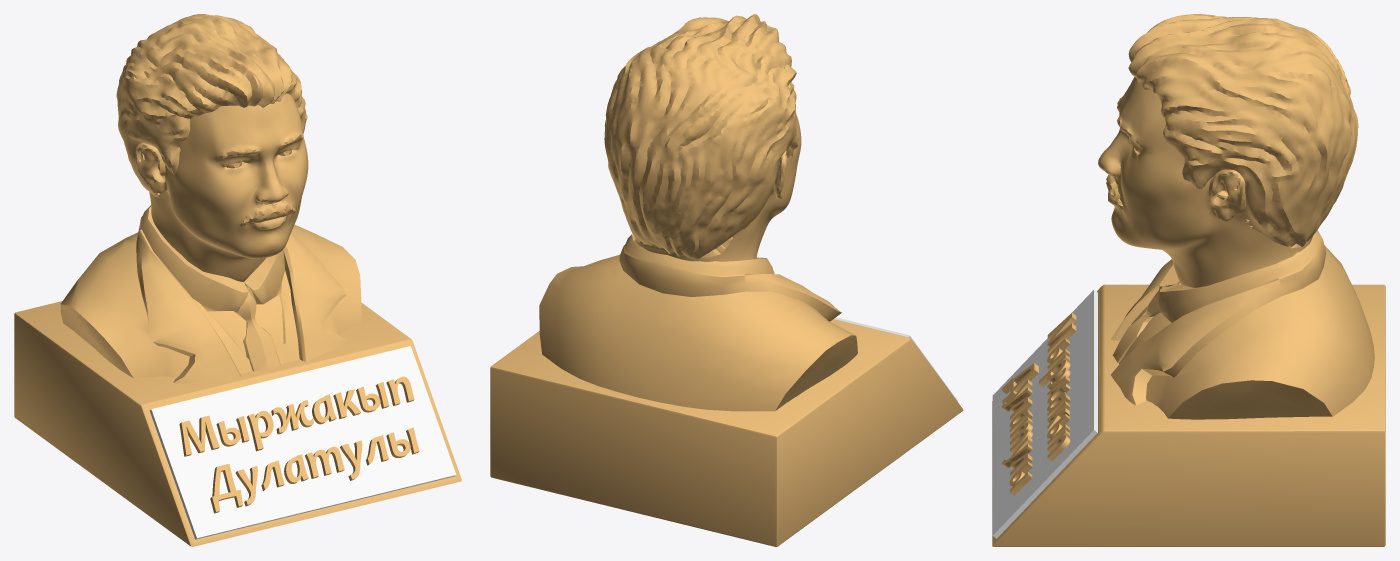
3 renders of one model, left to right at view 1: azimuth 30°, elevation 25°; view 2: azimuth 150°, elevation 25°; view 3: azimuth 270°, elevation 25°, orthographic. The views are drawn at different scales.
Parts seen in each view (by area): view 1: Cube, Mirzhakip.002, Mirzhakip.001, Text; view 2: Cube, Mirzhakip.002, Mirzhakip.001; view 3: Cube, Mirzhakip.002, Mirzhakip.001, Text.
Boxes of the visible parts, box(x1,y1,x2,y2) form: Cube: box(14, 301, 461, 546); Mirzhakip.002: box(116, 14, 308, 282); Mirzhakip.001: box(60, 205, 361, 383); Text: box(179, 376, 419, 513); Cube: box(490, 317, 963, 546); Mirzhakip.002: box(604, 14, 801, 261); Mirzhakip.001: box(539, 234, 857, 411); Cube: box(992, 284, 1385, 546); Mirzhakip.002: box(1098, 14, 1358, 287); Mirzhakip.001: box(1111, 230, 1374, 419); Text: box(1001, 313, 1076, 495).
Size of the model in its own units: 0.7721 by 1.1 by 0.8727.
2 materials, 1 textured.
